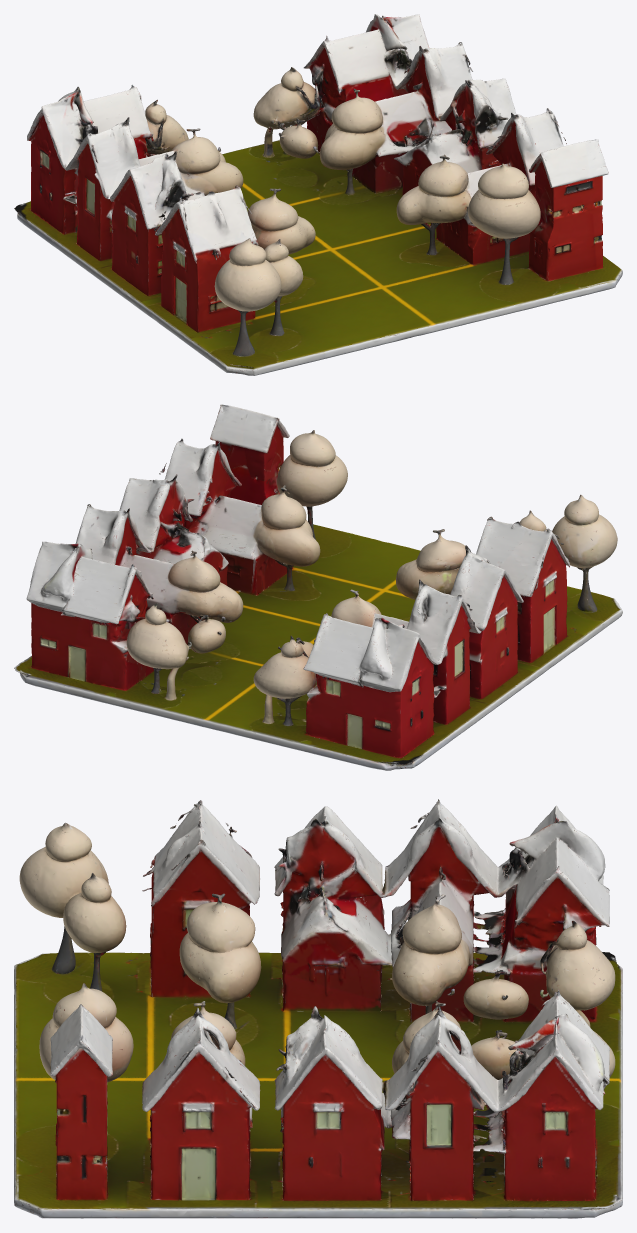
The model's file is transportation.glb.
3 renders of one model, top to bottom at view 1: azimuth 30°, elevation 25°; view 2: azimuth 150°, elevation 25°; view 3: azimuth 270°, elevation 25°, orthographic. The views are drawn at different scales.
Bounding box in the file's own units: 62391 × 21640 × 62391.
1 material, 1 textured.
